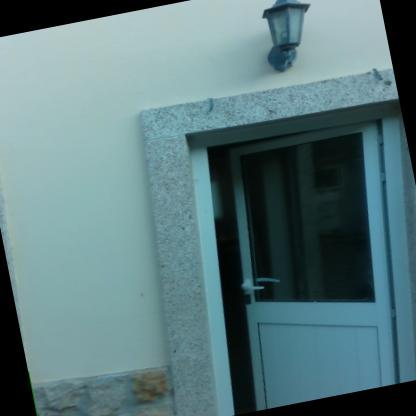semi: (113, 42, 415, 415)
